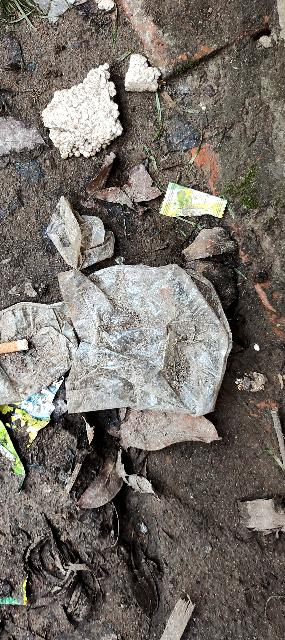polythene: (1, 270, 244, 415)
